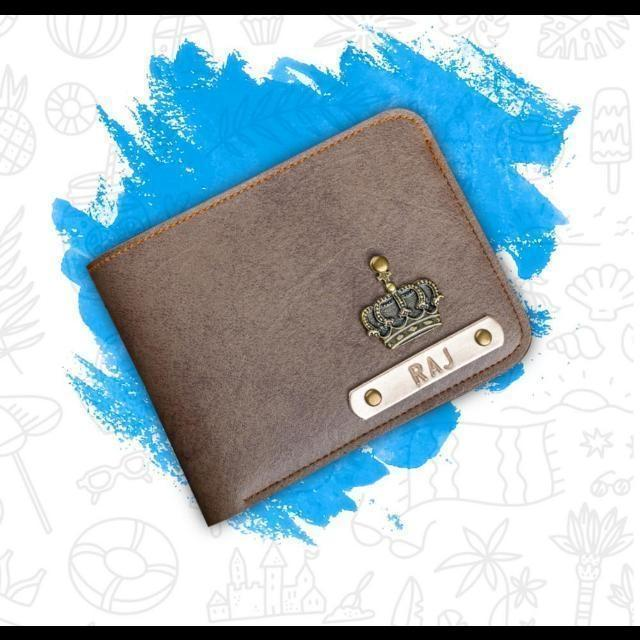Wallet: (89, 103, 533, 530)
